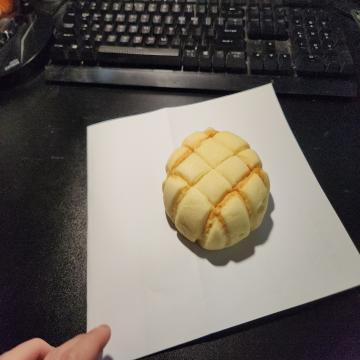melon_bread: (164, 127, 270, 254)
